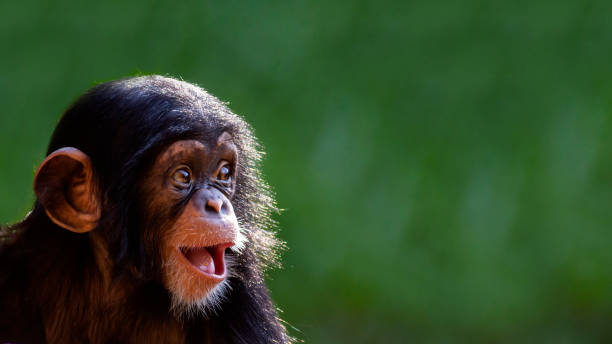chimpanzee: (29, 63, 294, 331)
